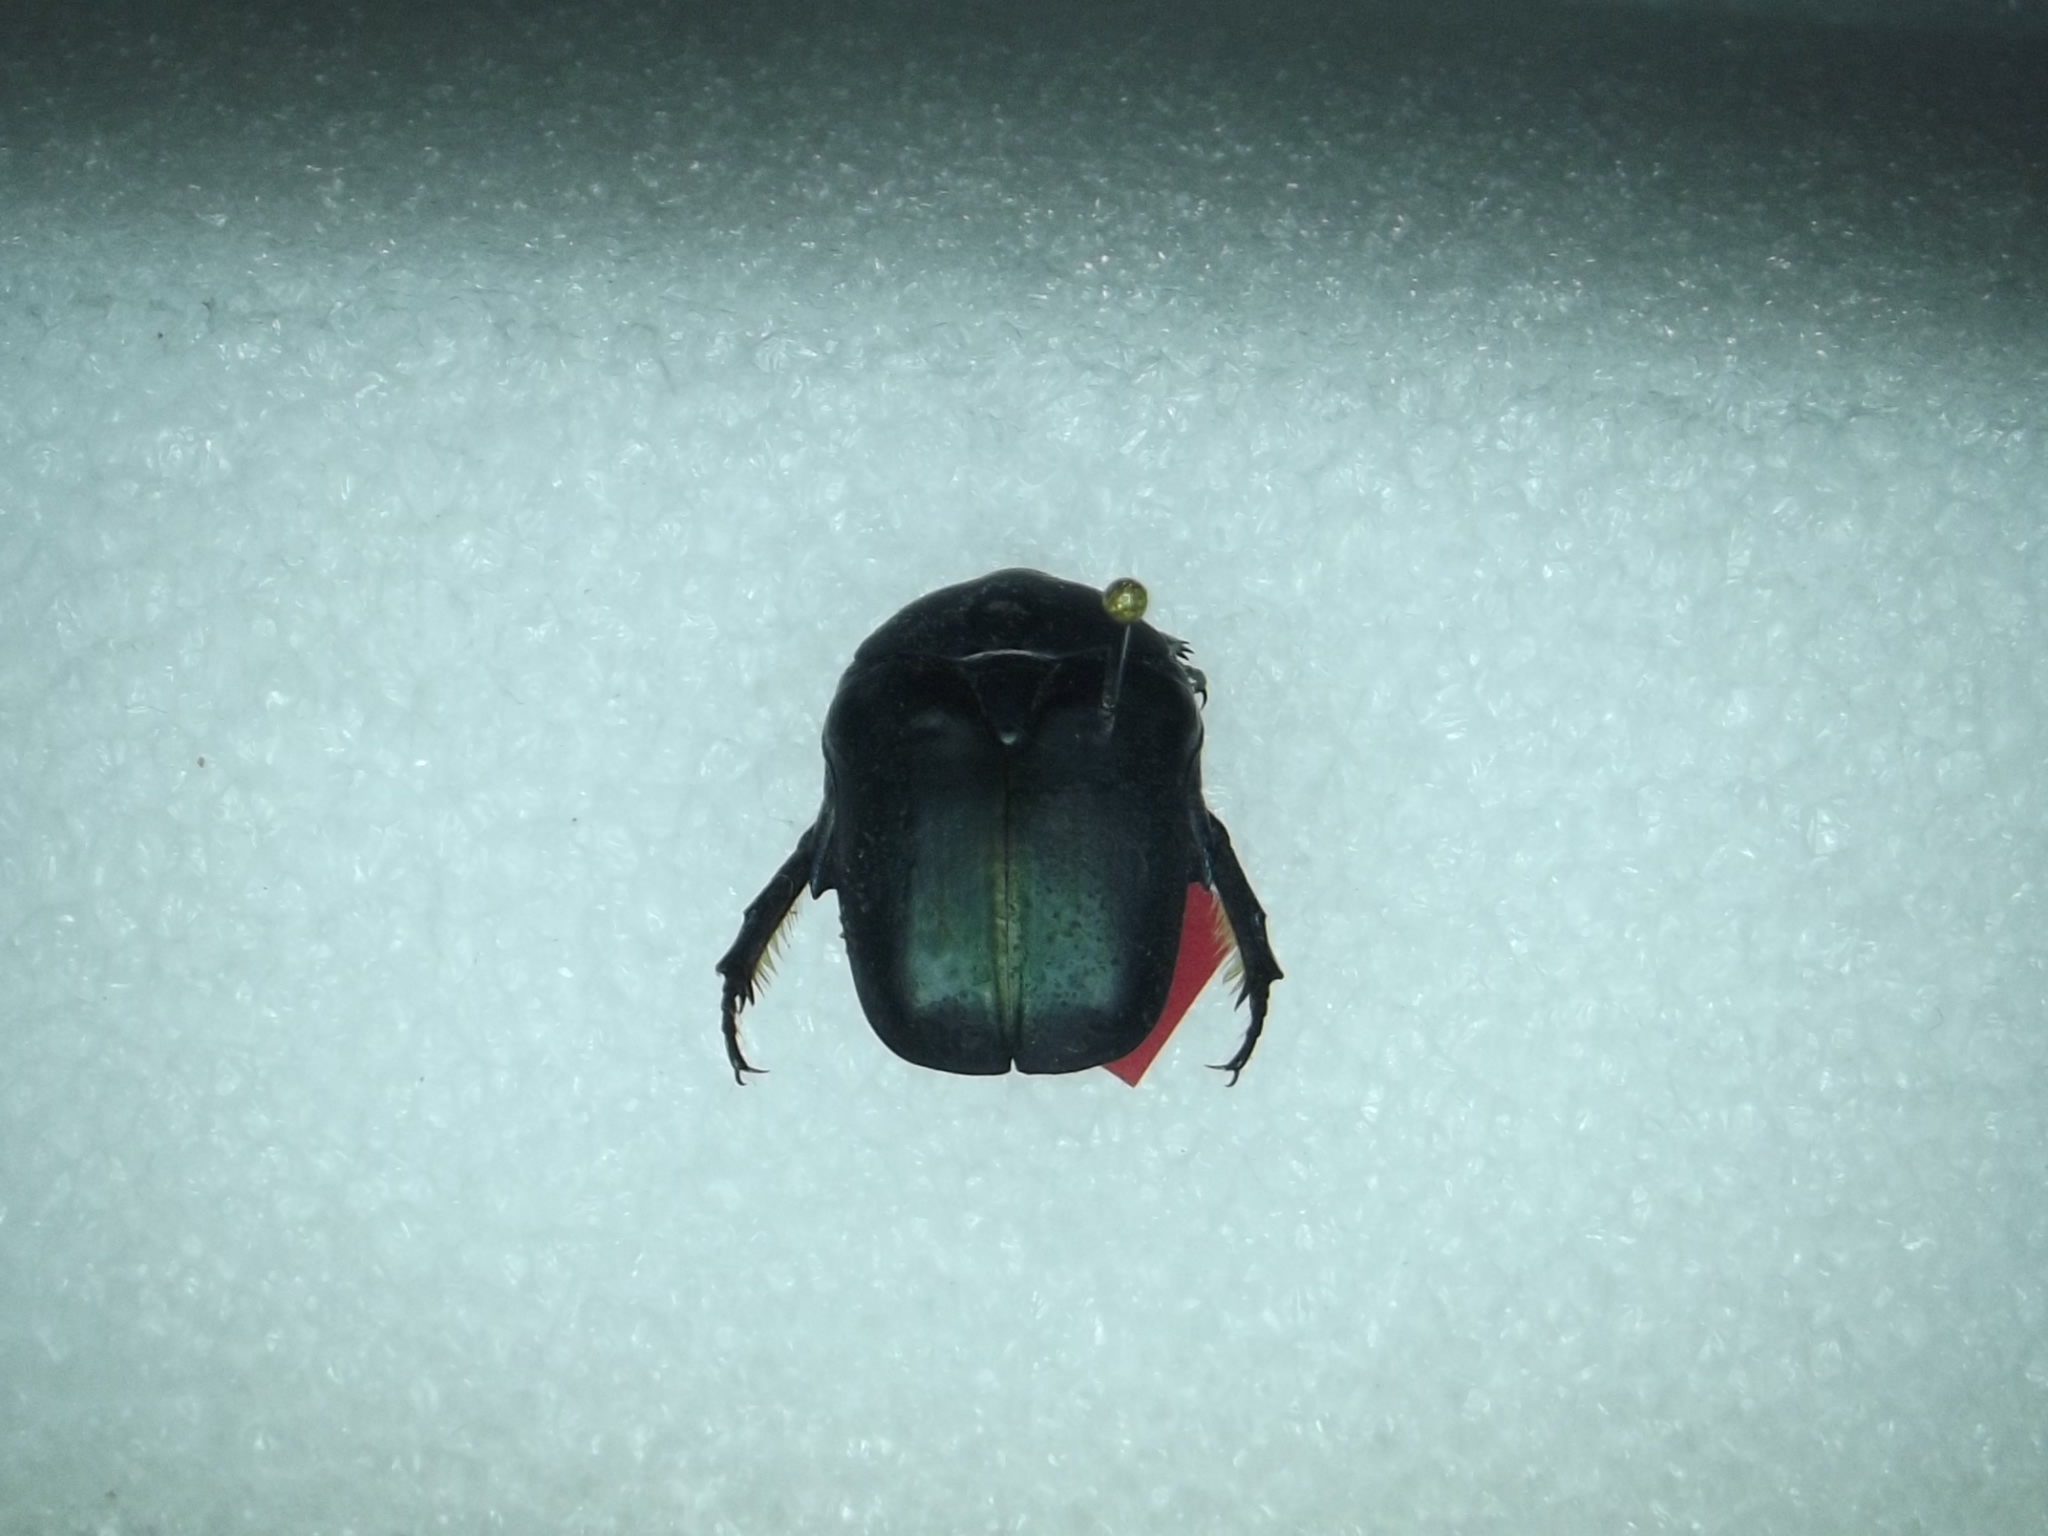Protaetia_afflicta: (693, 510, 1321, 1155)
